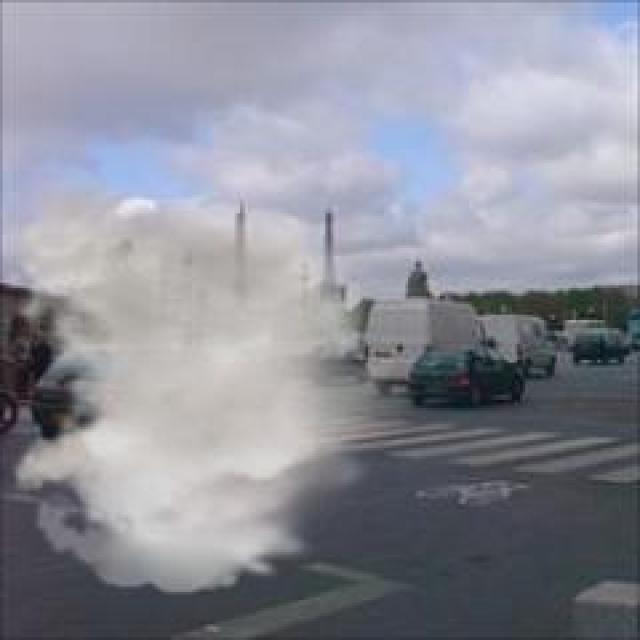Smoke: (11, 176, 372, 598)
